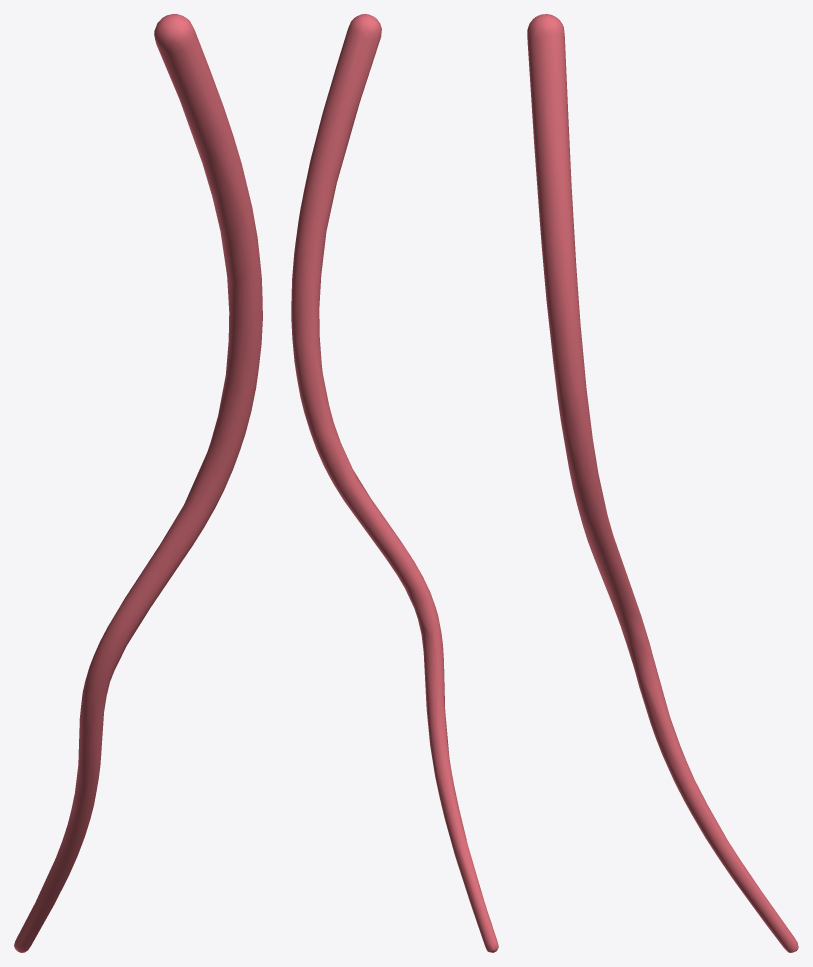
The model's file is fma22712_fj2267.glb.
3 renders of one model, left to right at view 1: azimuth 30°, elevation 25°; view 2: azimuth 210°, elevation 25°; view 3: azimuth 270°, elevation 25°, orthographic. The views are drawn at different scales.
Visible parts, largest first — view 1: FMA22712_FJ2267; view 2: FMA22712_FJ2267; view 3: FMA22712_FJ2267.
Part boxes in pixels (left/top/right/bottom): FMA22712_FJ2267: left=14, top=14, right=262, bottom=952; FMA22712_FJ2267: left=291, top=14, right=498, bottom=952; FMA22712_FJ2267: left=527, top=14, right=798, bottom=952.
Bounding box in the file's own units: 0.00951 × 0.0685 × 0.0178.
